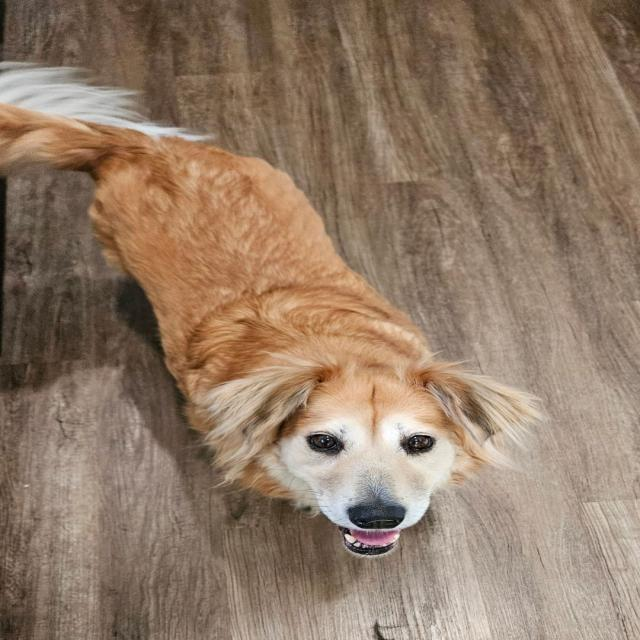golden_retriever_dog: (138, 310, 556, 566)
